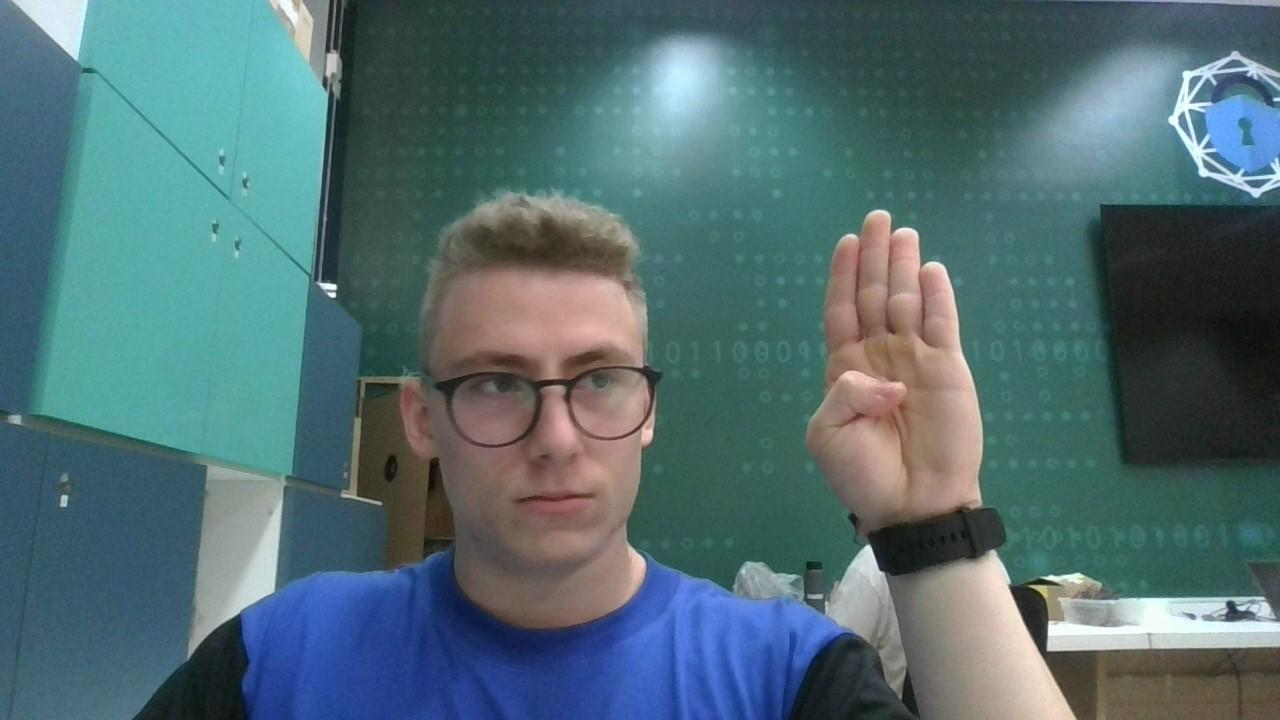B: (808, 210, 990, 508)
